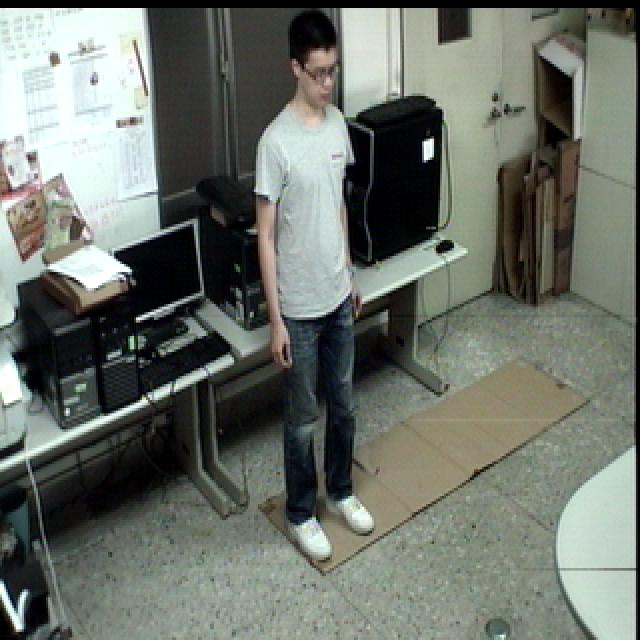stand: (247, 7, 388, 578)
